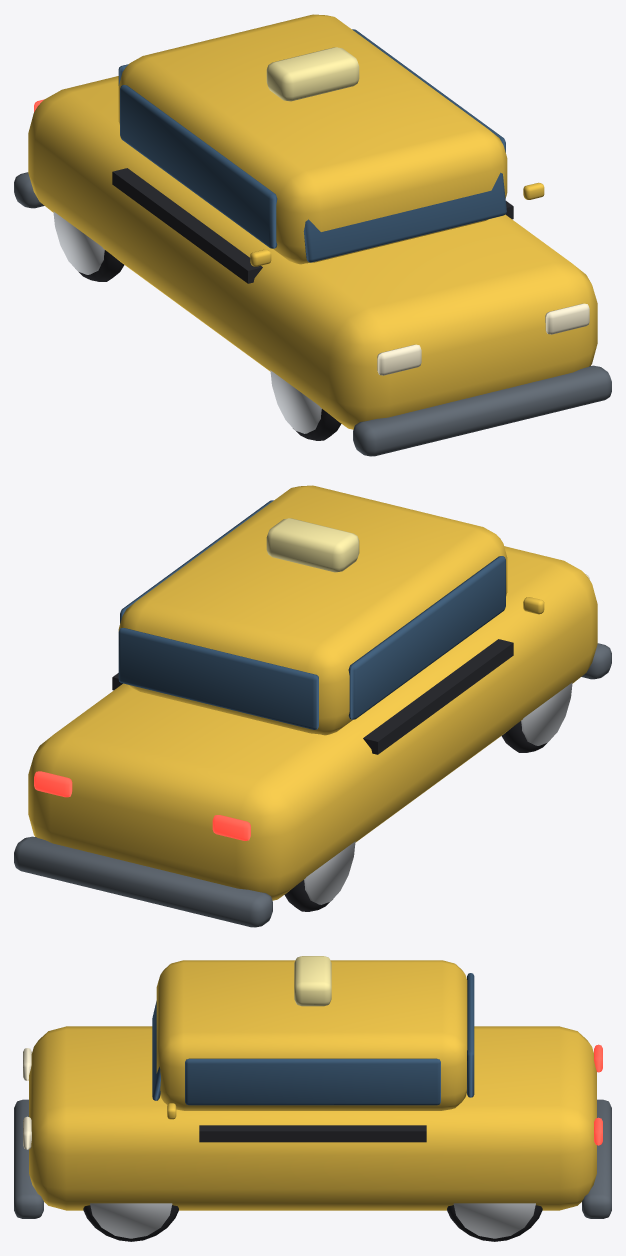
File: car_taxi.gltf
The picture shows the model from 3 angles, top to bottom: view 1: azimuth 30°, elevation 25°; view 2: azimuth 150°, elevation 25°; view 3: azimuth 270°, elevation 25°; orthographic projection. The views are drawn at different scales.
Parts seen in each view (by area): view 1: car_taxi_body, WHEEL_fr_mesh.001, WHEEL_rr_mesh.001; view 2: car_taxi_body, WHEEL_fr_mesh.001, WHEEL_rr_mesh.001; view 3: car_taxi_body, WHEEL_fl_mesh.001, WHEEL_rl_mesh.001.
Part boxes in pixels (x1,y1,x2,y2): car_taxi_body: [14, 14, 611, 456]; WHEEL_fr_mesh.001: [270, 370, 341, 440]; WHEEL_rr_mesh.001: [53, 211, 124, 281]; car_taxi_body: [14, 485, 611, 927]; WHEEL_fr_mesh.001: [501, 682, 572, 752]; WHEEL_rr_mesh.001: [284, 841, 355, 911]; car_taxi_body: [14, 956, 611, 1218]; WHEEL_fl_mesh.001: [83, 1203, 178, 1241]; WHEEL_rl_mesh.001: [447, 1203, 542, 1241].
Size of what is drawn, in the model's own units: 1.89 by 1.67 by 4.
